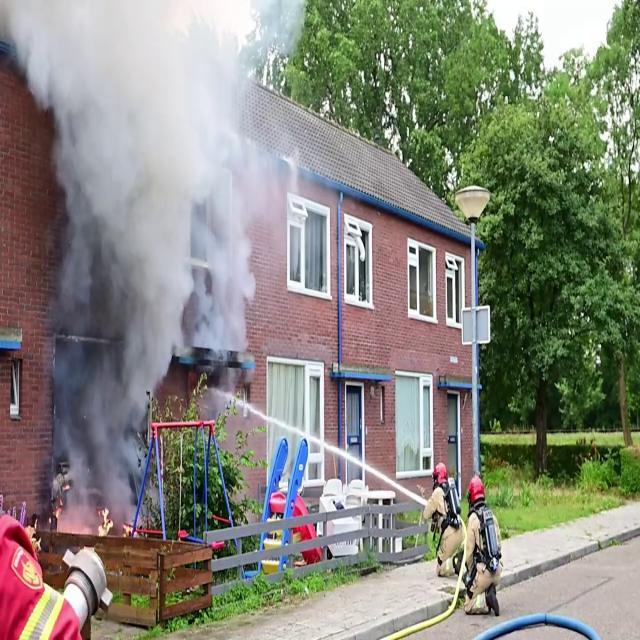Smoke: (15, 0, 276, 500)
